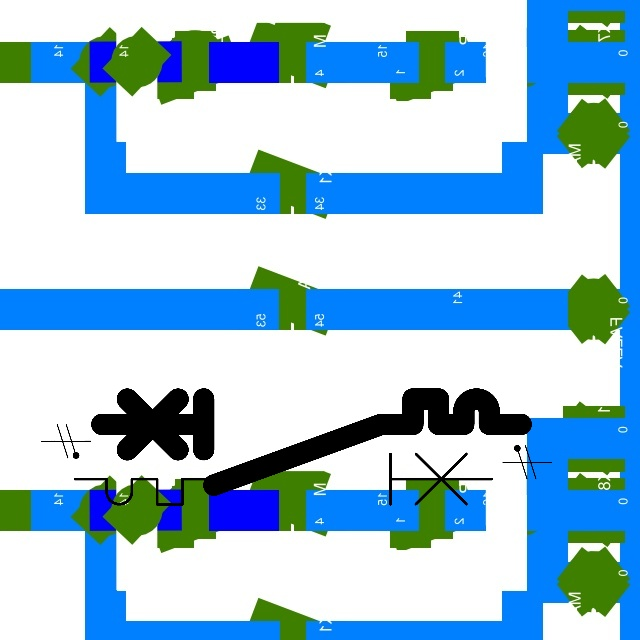interruptor_termomagnetico: (90, 388, 531, 496), (64, 408, 502, 515)
